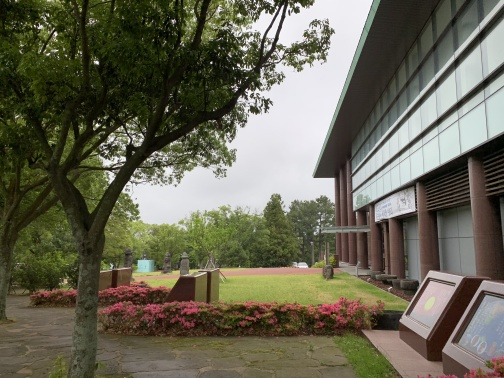Museum: (306, 3, 502, 362)
